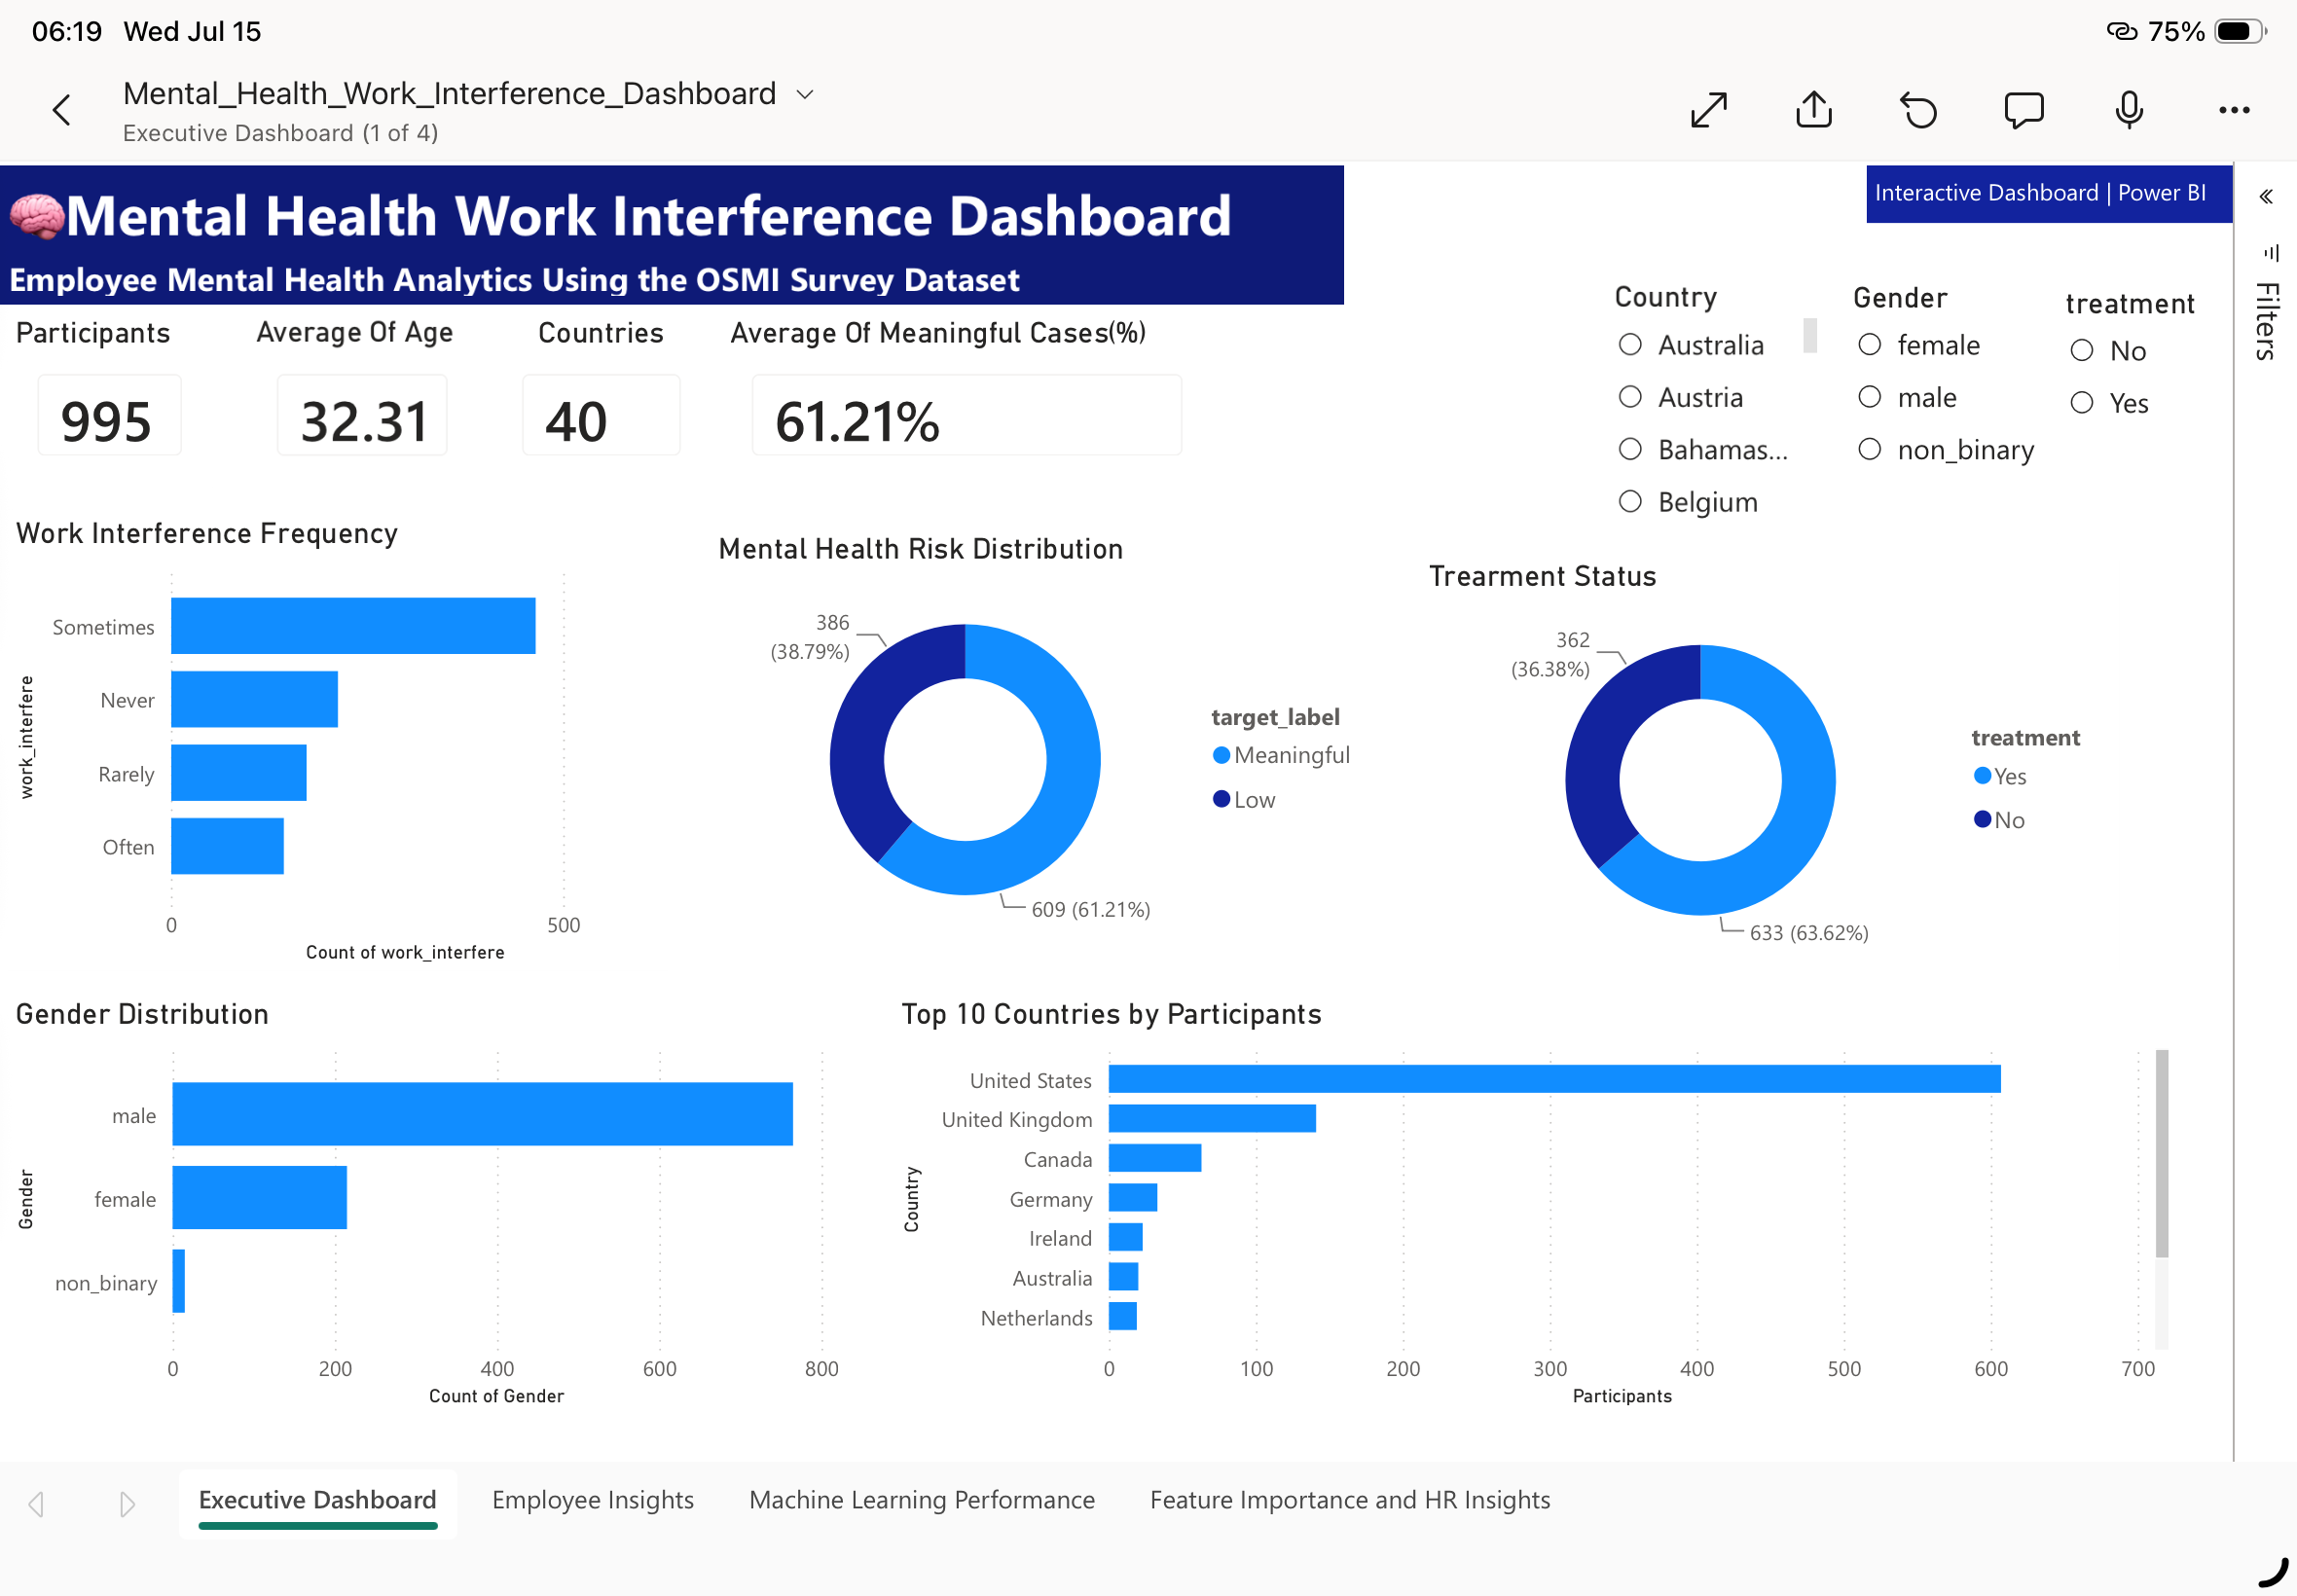

The dashboard page shown, as its layout file describes it:
{"tool":"powerbi","page":{"name":"Executive Dashboard","canvas":[1280,720],"ordinal":0},"visuals":[{"type":"cardVisual","title":"Average Of Age","fields":{"Data":["Avg(mental_health_power_bi.Age)"]},"box":[142,90.5,132.3,97.3],"z":0},{"type":"cardVisual","title":"Countries ","fields":{"Data":["Count(mental_health_power_bi.Country)"]},"box":[282.1,90.5,125.5,97.3],"z":1000},{"type":"cardVisual","title":"Participants","fields":{"Data":["CountNonNull(mental_health_power_bi.Age)"]},"box":[4.9,90.5,117.7,97.3],"z":2000},{"type":"cardVisual","title":"Average Of Meaningful  Cases(%)","fields":{"Data":["Avg(mental_health_power_bi.target)"]},"box":[414.3,90.5,281.1,97.3],"z":3000},{"type":"donutChart","title":"Trearment Status","fields":{"Category":["mental_health_power_bi.treatment"],"Y":["CountNonNull(mental_health_power_bi.treatment)"]},"box":[814.1,229.5,400.7,235.4],"z":4000},{"type":"clusteredBarChart","title":"Work Interference Frequency","fields":{"Y":["CountNonNull(mental_health_power_bi.work_interfere)"],"Category":["mental_health_power_bi.work_interfere"]},"box":[4.9,205.2,378.4,259.7],"z":5000},{"type":"clusteredBarChart","title":"Top 10 Countries by Participants","fields":{"Y":["CountNonNull(mental_health_power_bi.Country)"],"Category":["mental_health_power_bi.Country"]},"box":[512.6,481.5,736.3,238.3],"z":6000},{"type":"donutChart","title":"Mental Health Risk Distribution","fields":{"Category":["mental_health_power_bi.target_label"],"Y":["CountNonNull(mental_health_power_bi.target_label)"]},"box":[407.5,214,383.2,243.2],"z":7000},{"type":"barChart","title":"Gender Distribution","fields":{"Y":["CountNonNull(mental_health_power_bi.Gender)"],"Category":["mental_health_power_bi.Gender"]},"box":[4.9,481.5,481.5,238.3],"z":8000},{"type":"listSlicer","fields":{"Values":["mental_health_power_bi.Country"]},"box":[920.1,70,126.4,149.8],"z":9000},{"type":"listSlicer","fields":{"Values":["mental_health_power_bi.treatment"]},"box":[1179.8,73.9,100.2,141],"z":10000},{"type":"listSlicer","fields":{"Values":["mental_health_power_bi.Gender"]},"box":[1058.2,70,121.6,149.8],"z":11000},{"type":"textbox","box":[0,3.9,770.3,79.8],"z":12000},{"type":"textbox","box":[1069.9,3.9,210.1,33.1],"z":13000}]}

Visuals, with their boxes on the page's 1280x720 design canvas (x1, y1, x2, y2). These are canvas units, not pixel positions in the 2297x1596 screenshot, which may show the page scaled, cropped or inside an application window:
"Average Of Age" cardVisual: {"left": 142, "top": 90, "right": 274, "bottom": 188}
"Countries " cardVisual: {"left": 282, "top": 90, "right": 408, "bottom": 188}
"Participants" cardVisual: {"left": 5, "top": 90, "right": 123, "bottom": 188}
"Average Of Meaningful  Cases(%)" cardVisual: {"left": 414, "top": 90, "right": 695, "bottom": 188}
"Trearment Status" donutChart: {"left": 814, "top": 230, "right": 1215, "bottom": 465}
"Work Interference Frequency" clusteredBarChart: {"left": 5, "top": 205, "right": 383, "bottom": 465}
"Top 10 Countries by Participants" clusteredBarChart: {"left": 513, "top": 482, "right": 1249, "bottom": 720}
"Mental Health Risk Distribution" donutChart: {"left": 408, "top": 214, "right": 791, "bottom": 457}
"Gender Distribution" barChart: {"left": 5, "top": 482, "right": 486, "bottom": 720}
listSlicer - mental_health_power_bi.Country: {"left": 920, "top": 70, "right": 1046, "bottom": 220}
listSlicer - mental_health_power_bi.treatment: {"left": 1180, "top": 74, "right": 1280, "bottom": 215}
listSlicer - mental_health_power_bi.Gender: {"left": 1058, "top": 70, "right": 1180, "bottom": 220}
textbox: {"left": 0, "top": 4, "right": 770, "bottom": 84}
textbox: {"left": 1070, "top": 4, "right": 1280, "bottom": 37}
